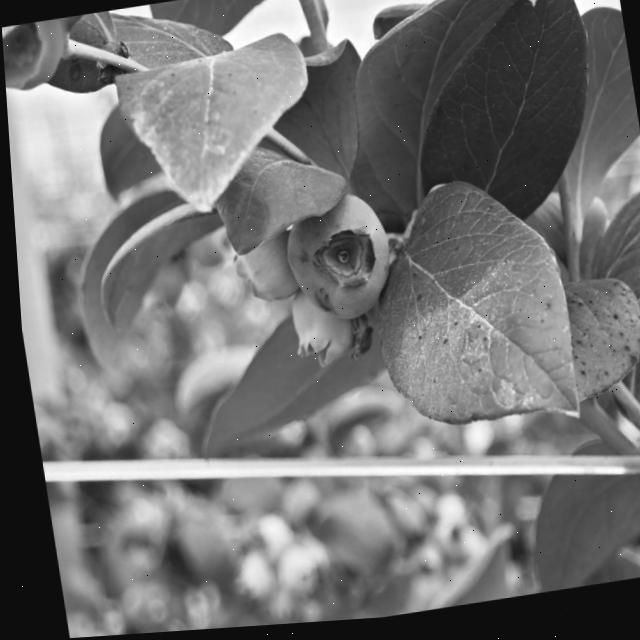Semi-RipeBlueBerry: (272, 190, 396, 331)
